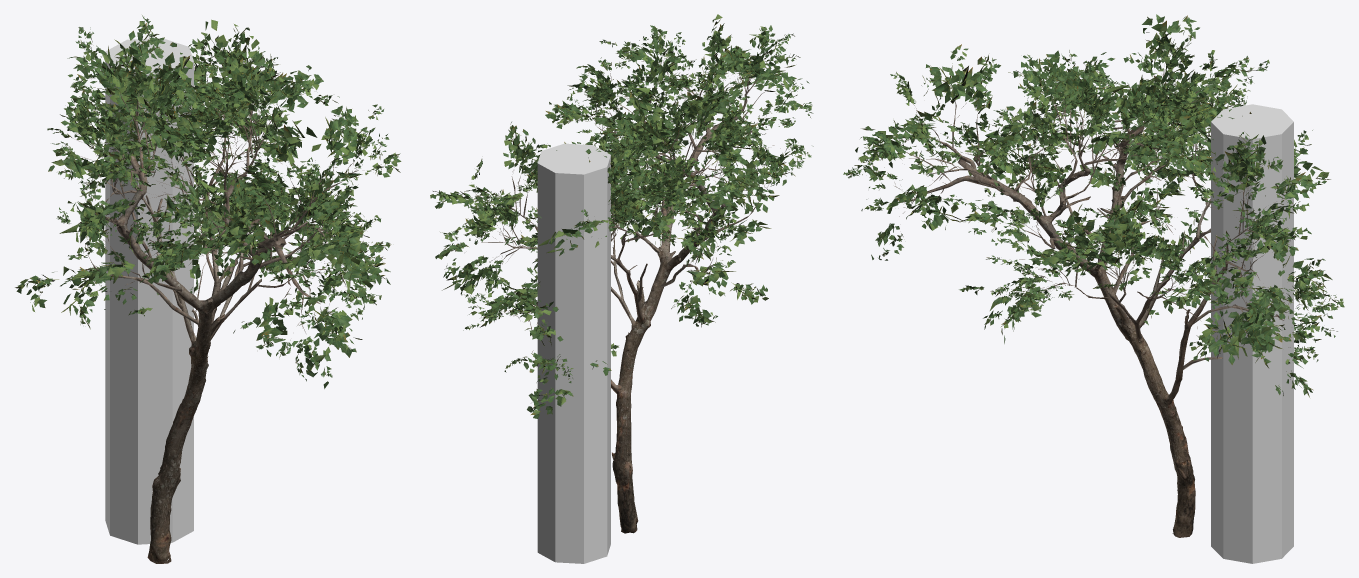
The model's file is ph_tree_small_02.glb.
3 views of the same model, side by side, from view 1: azimuth 30°, elevation 25°; view 2: azimuth 150°, elevation 25°; view 3: azimuth 270°, elevation 25° (orthographic). The views are drawn at different scales.
Parts seen in each view (by area): view 1: ph_tree_small_02, ph_tree_small_02_col; view 2: ph_tree_small_02, ph_tree_small_02_col; view 3: ph_tree_small_02, ph_tree_small_02_col.
Boxes of the visible parts, <box> form: ph_tree_small_02: <box>15,15,401,563</box>; ph_tree_small_02_col: <box>105,38,193,544</box>; ph_tree_small_02: <box>430,14,813,533</box>; ph_tree_small_02_col: <box>537,143,610,563</box>; ph_tree_small_02: <box>843,14,1344,537</box>; ph_tree_small_02_col: <box>1211,104,1293,563</box>.
Size of the model in its own units: 2.95 by 4.58 by 4.28.
3 materials, 3 textured.
